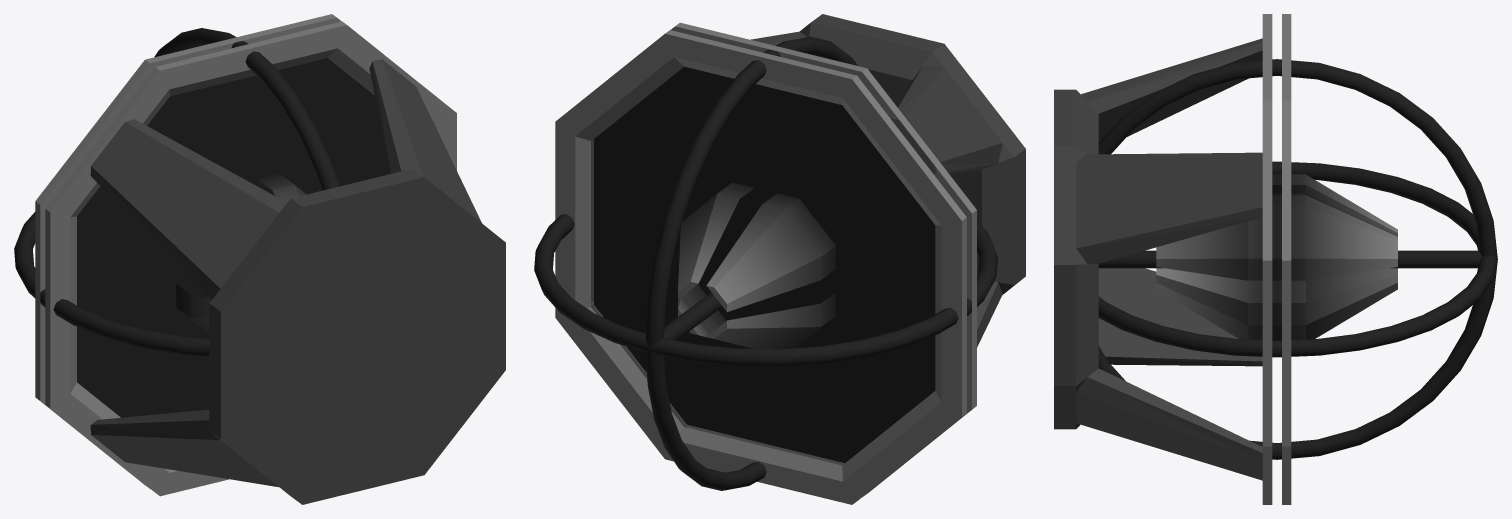
File: Leg_TLY_1X1_on.FBX
3 renders of one model, left to right at view 1: azimuth 30°, elevation 25°; view 2: azimuth 150°, elevation 25°; view 3: azimuth 270°, elevation 25°, orthographic. The views are drawn at different scales.
Parts seen in each view (by area): view 1: TLY; view 2: TLY; view 3: TLY.
Boxes of the visible parts, bbox=[...] form: TLY: bbox=[14, 14, 505, 504]; TLY: bbox=[534, 14, 1025, 504]; TLY: bbox=[1054, 14, 1497, 504].
Bounding box in the file's own units: 1 × 1 × 0.995.
